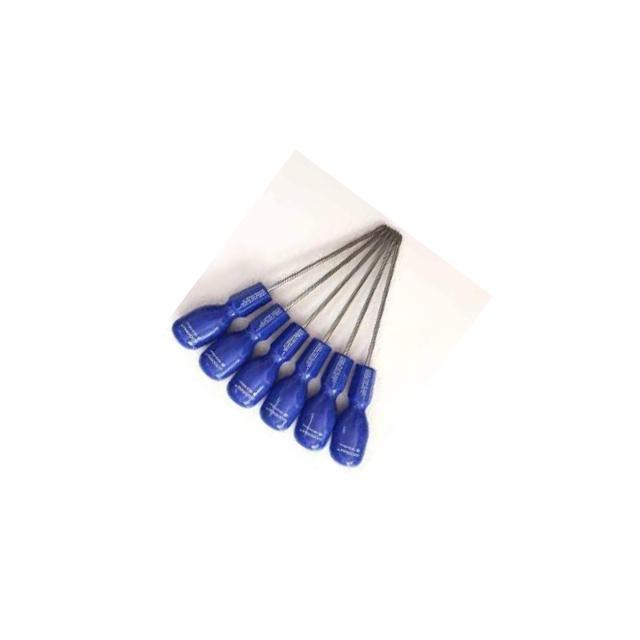screwdriver: (162, 155, 387, 402), (265, 230, 486, 475), (190, 179, 390, 411), (256, 230, 454, 460), (218, 204, 395, 420), (252, 226, 422, 437)
